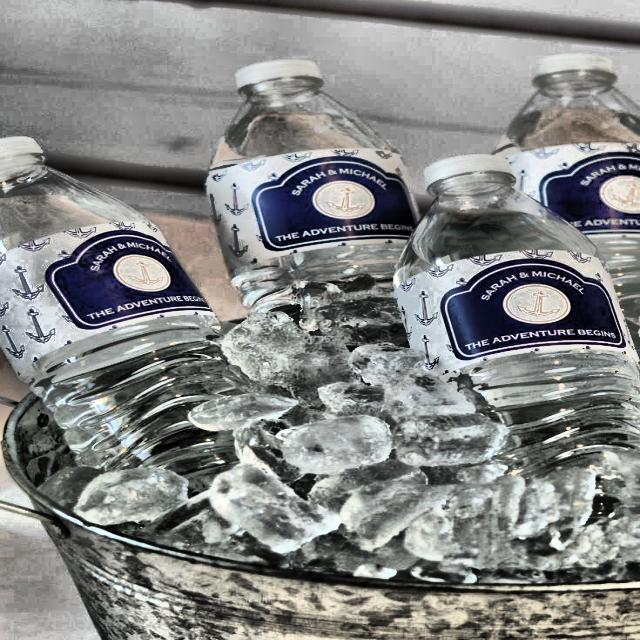Bottles: (0, 138, 255, 505), (390, 154, 640, 516), (187, 59, 466, 359), (493, 43, 640, 346)
